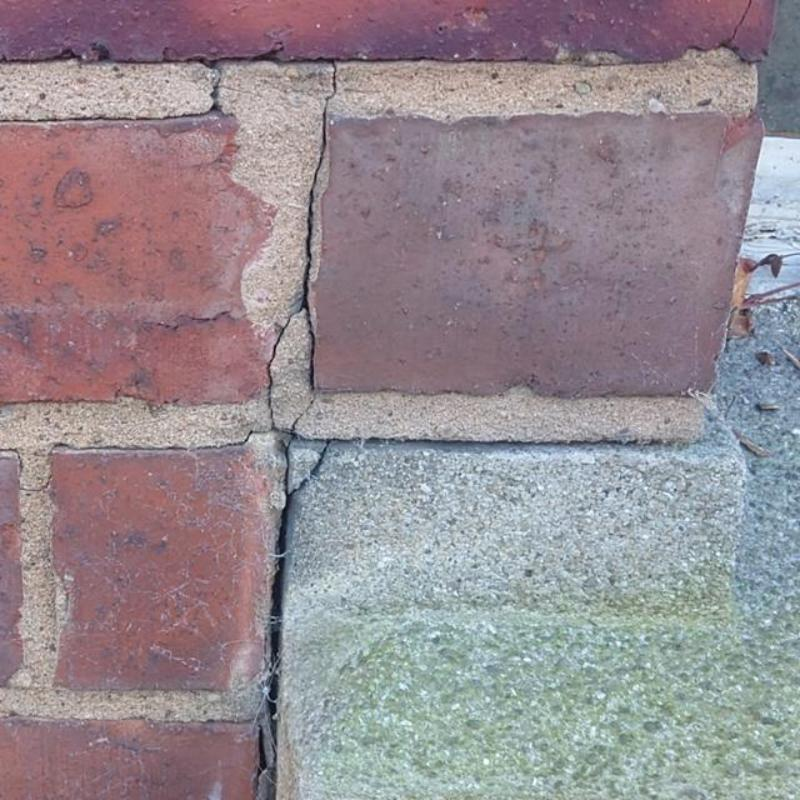crack: (255, 434, 328, 799), (266, 61, 338, 409), (0, 442, 200, 491), (0, 49, 559, 65), (197, 400, 362, 449), (364, 436, 666, 451), (0, 112, 201, 124), (201, 61, 236, 117), (720, 0, 752, 49)
